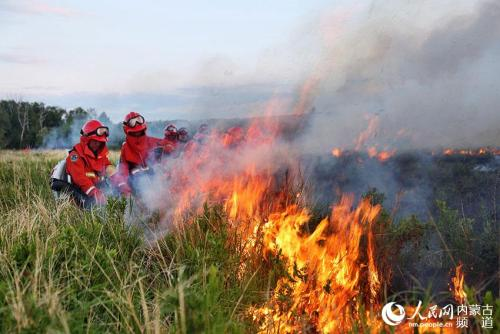fire: (190, 162, 393, 333)
smoke: (287, 19, 500, 148)
